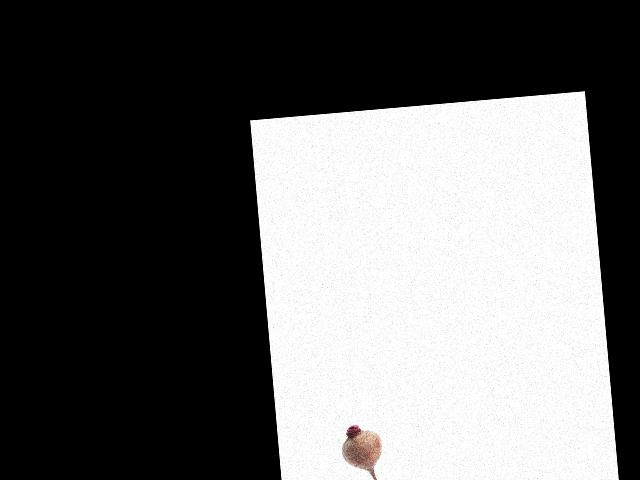beet: (338, 423, 386, 480)
